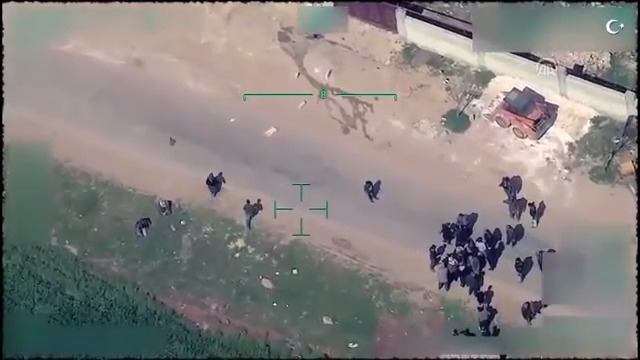insan: (243, 194, 259, 236), (357, 174, 379, 204), (520, 199, 541, 226), (512, 252, 526, 284), (206, 169, 220, 194)
